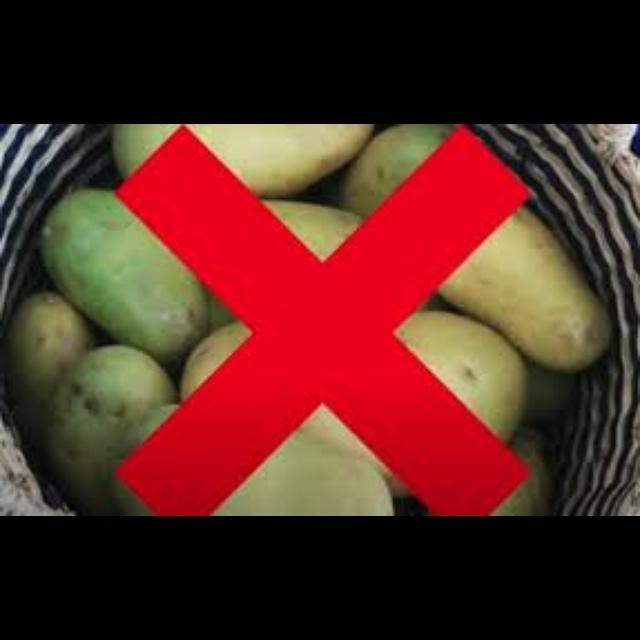Defected potato: (29, 183, 214, 369), (436, 196, 624, 374), (44, 338, 186, 514), (0, 288, 96, 444)
